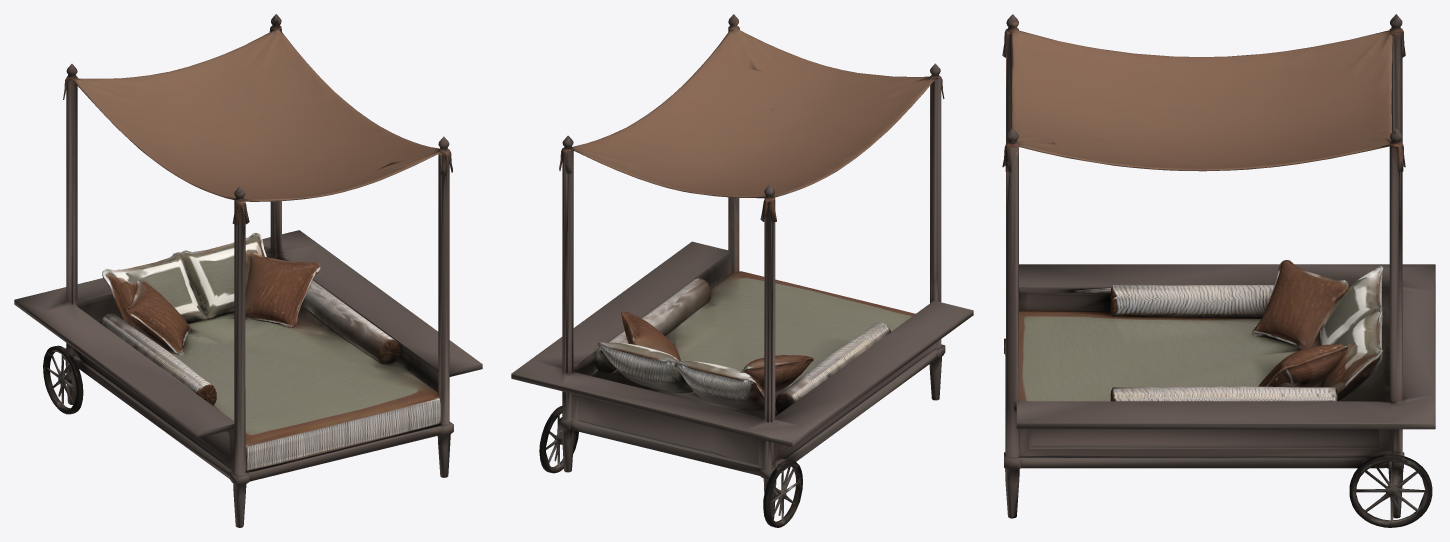
The model's file is custom.glb.
The picture shows the model from 3 angles, left to right: view 1: azimuth 30°, elevation 25°; view 2: azimuth 150°, elevation 25°; view 3: azimuth 270°, elevation 25°; orthographic projection. The views are drawn at different scales.
Parts seen in each view (by area): view 1: node_0; view 2: node_0; view 3: node_0.
Boxes of the visible parts, x1=… form: node_0: x1=14, y1=14, x2=482, y2=527; node_0: x1=511, y1=14, x2=973, y2=527; node_0: x1=1002, y1=14, x2=1435, y2=527.
Bounding box in the file's own units: 0.688 × 0.7915 × 0.7911.
1 material, 1 textured.
